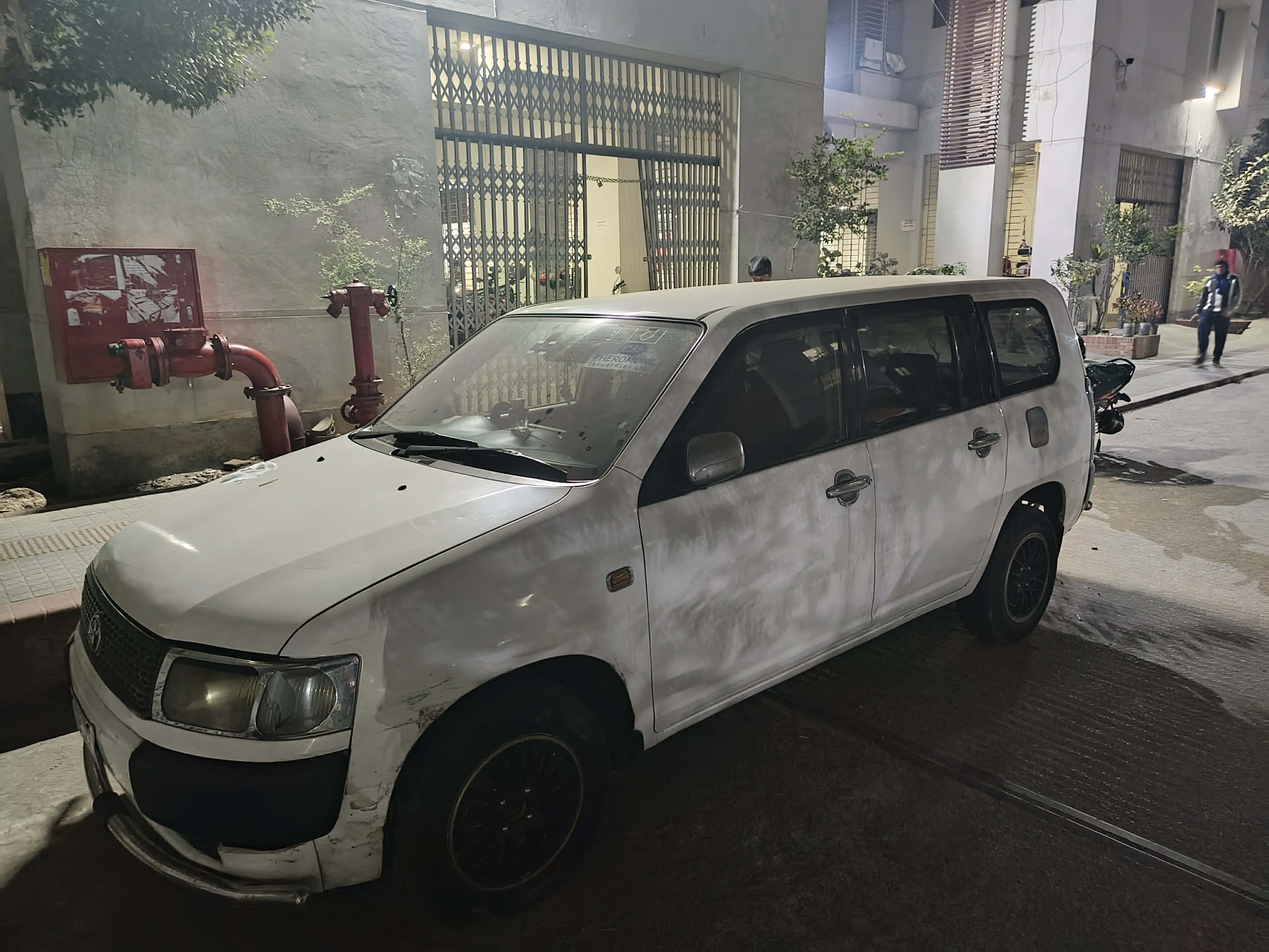private car: (31, 260, 1119, 909)
